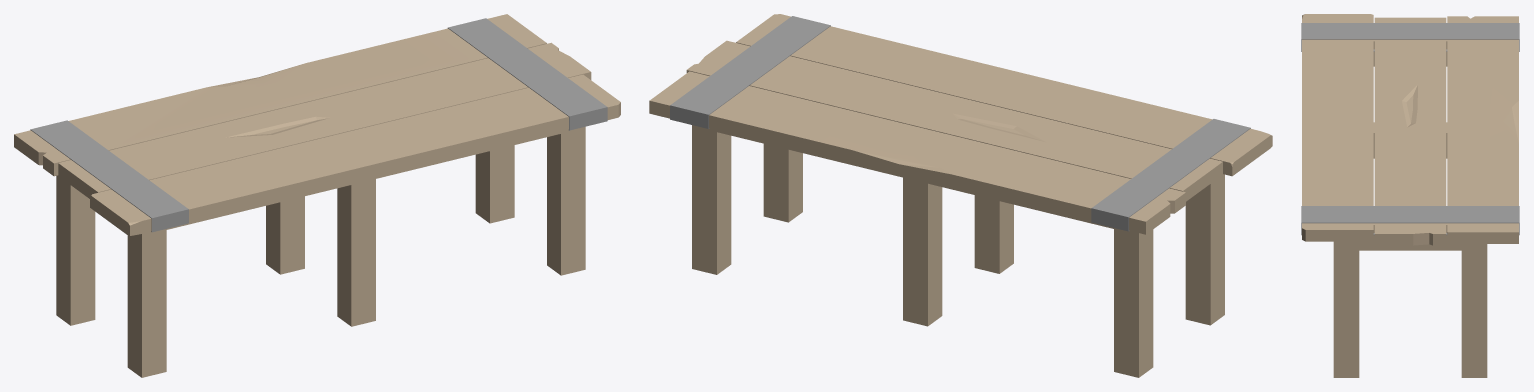
Rendered from Stół długi.fbx.
3 views of the same model, side by side, from view 1: azimuth 30°, elevation 25°; view 2: azimuth 150°, elevation 25°; view 3: azimuth 270°, elevation 25° (orthographic). The views are drawn at different scales.
Parts seen in each view (by area): view 1: Cube_3_Cube_1; view 2: Cube_3_Cube_1; view 3: Cube_3_Cube_1.
Part boxes in pixels (x1,y1,x2,y2): Cube_3_Cube_1: (14,14,620,377); Cube_3_Cube_1: (649,14,1272,377); Cube_3_Cube_1: (1301,14,1519,377).
Size of the model in its own units: 204 by 67.75 by 85.35.
